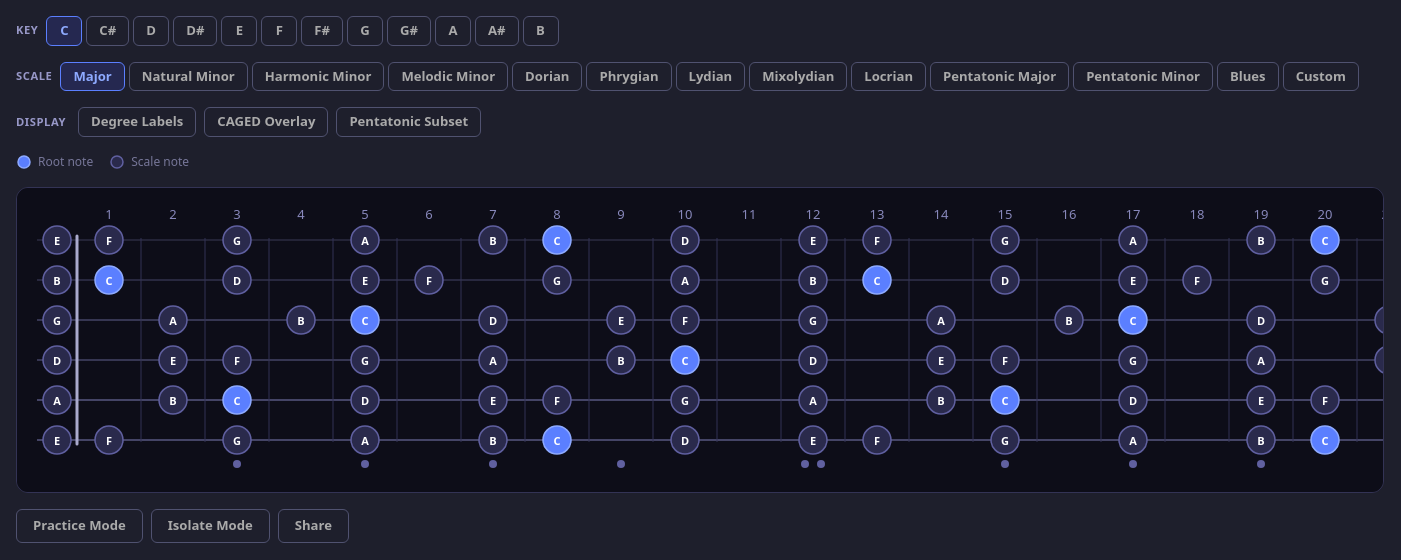
Scenario: ScalesPage – Pentatonic Subset button enabled/disabled state › IS disabled when the current scale is Pentatonic Major
Click the radio button labelled "Pentatonic Major".
click(1000, 77)  # box [930, 62, 1069, 91]
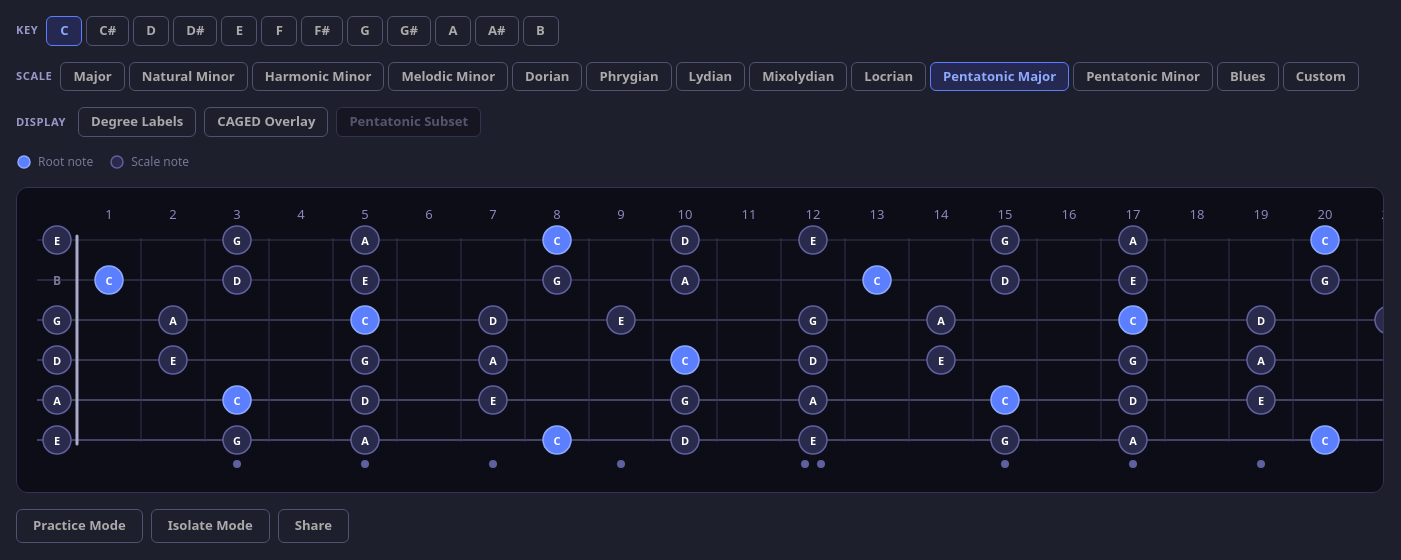
Result: the button "Pentatonic Subset" is disabled at [336, 107, 481, 137]
